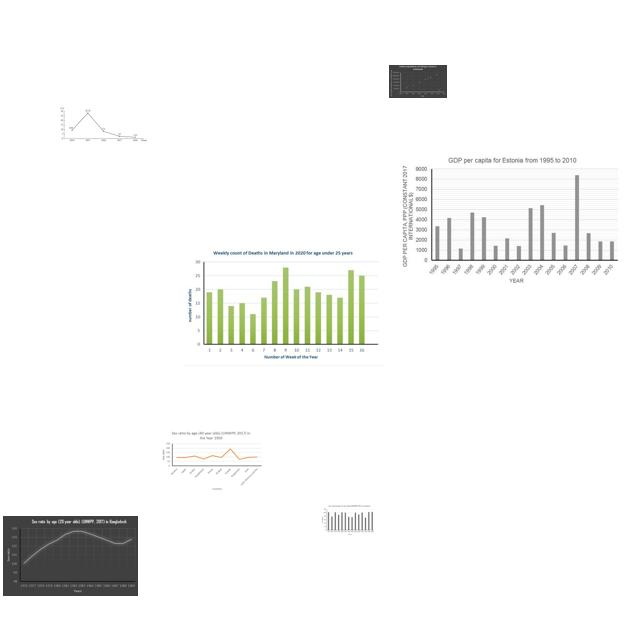Graph: (399, 153, 621, 285), (183, 247, 383, 366), (3, 516, 138, 596), (160, 429, 263, 492), (57, 105, 150, 143), (389, 65, 447, 98), (321, 504, 375, 536)
